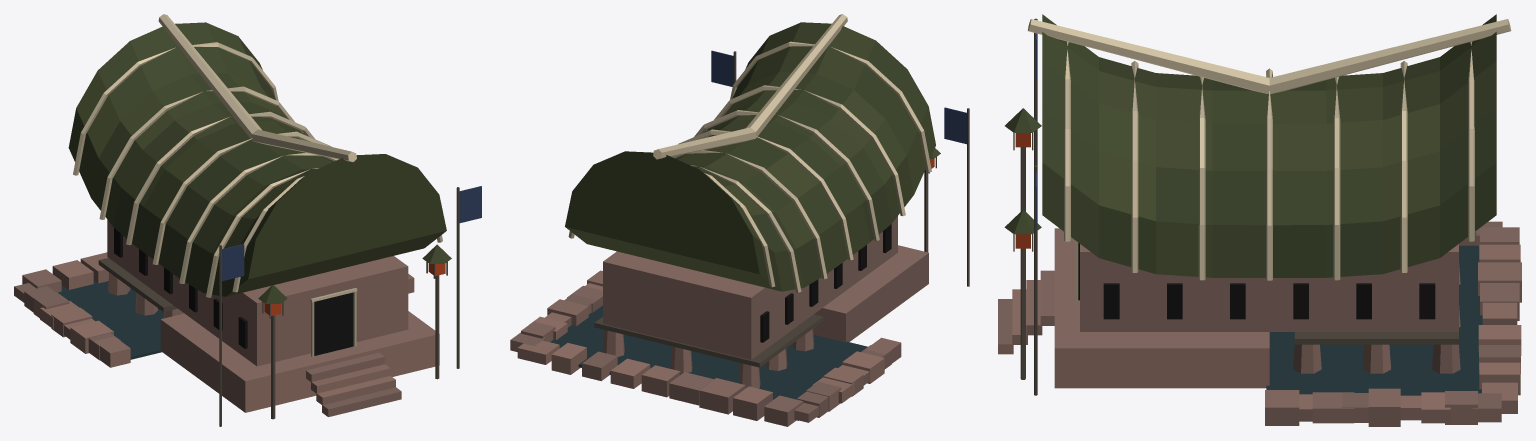
File: reef_seat.glb
The picture shows the model from 3 angles, left to right: view 1: azimuth 30°, elevation 25°; view 2: azimuth 150°, elevation 25°; view 3: azimuth 270°, elevation 25°; orthographic projection. The views are drawn at different scales.
Visible parts, largest first — view 1: reef_seat; view 2: reef_seat; view 3: reef_seat.
Boxes of the visible parts, x1=… form: reef_seat: x1=14, y1=14, x2=481, y2=426; reef_seat: x1=510, y1=14, x2=969, y2=426; reef_seat: x1=998, y1=14, x2=1521, y2=426.
Size of the model in its own units: 14.38 by 11.21 by 16.6.
1 material, 1 textured.
